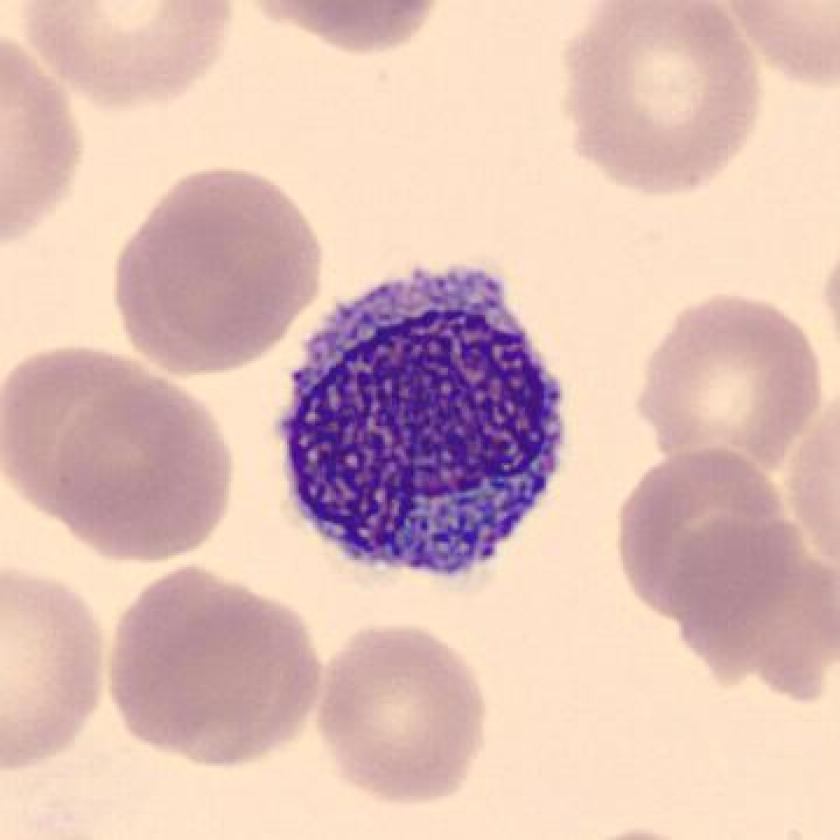monocyte: (260, 244, 584, 603)
